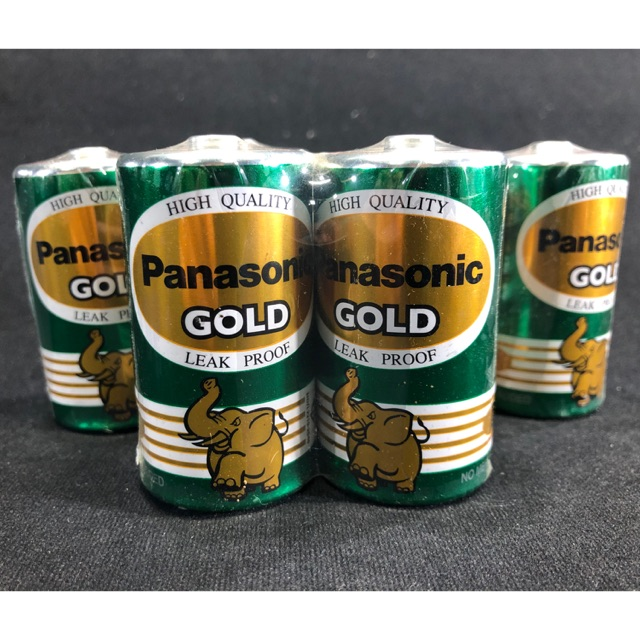Battery: (113, 131, 318, 521), (315, 131, 509, 508), (497, 138, 632, 421), (11, 143, 141, 433)
